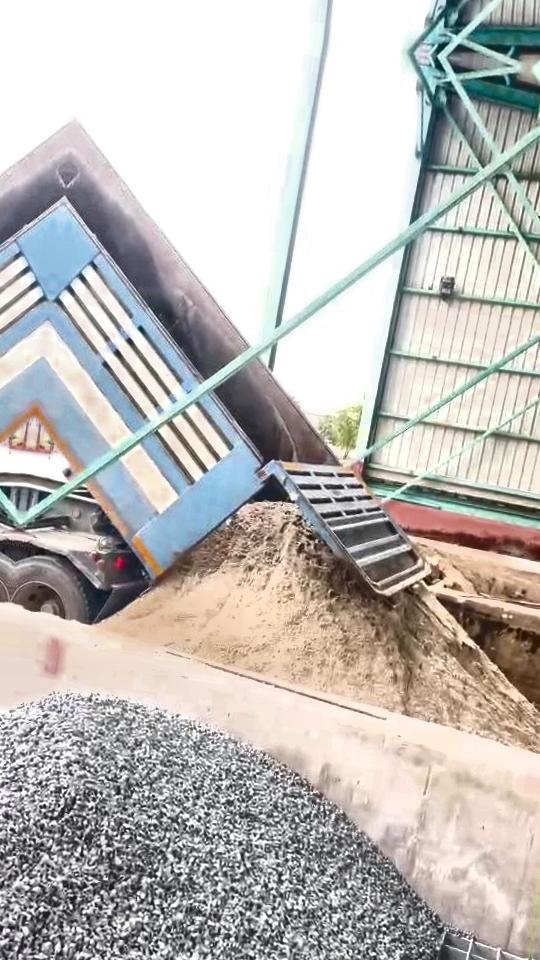gravel: (0, 695, 451, 960)
sand: (104, 502, 540, 753), (416, 544, 476, 593)
